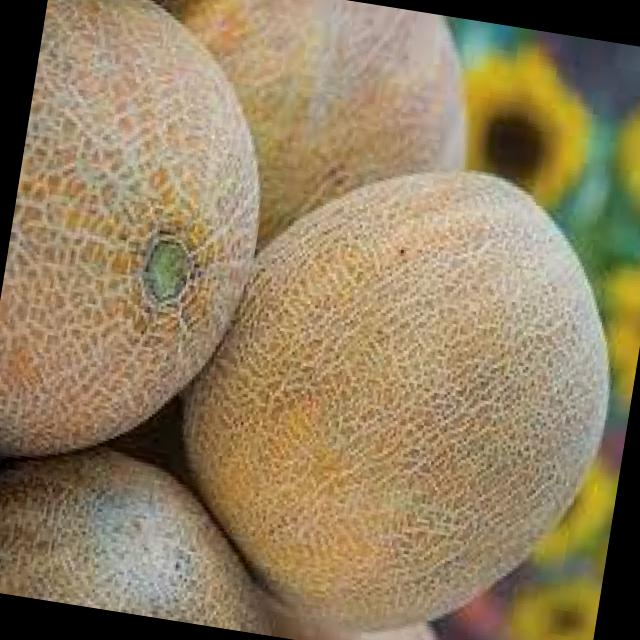cantaloupe: (152, 135, 640, 640)
